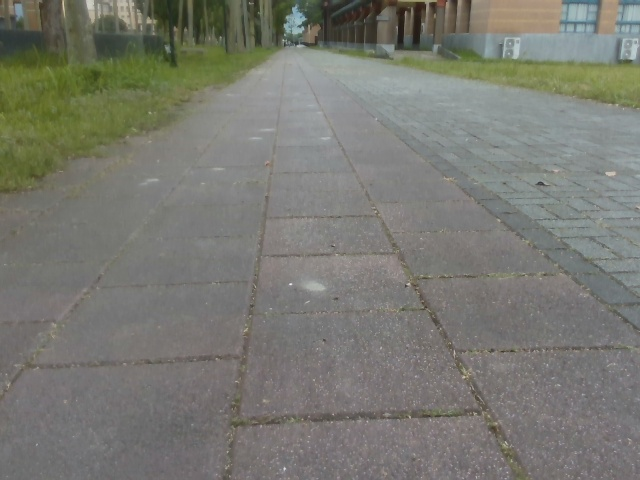grass: (0, 33, 284, 195), (319, 48, 639, 112), (130, 0, 321, 53), (39, 0, 94, 57)
road: (0, 47, 639, 479)
sidewalk: (447, 103, 639, 293)
